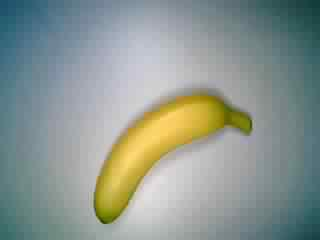banana: (96, 88, 256, 228)
